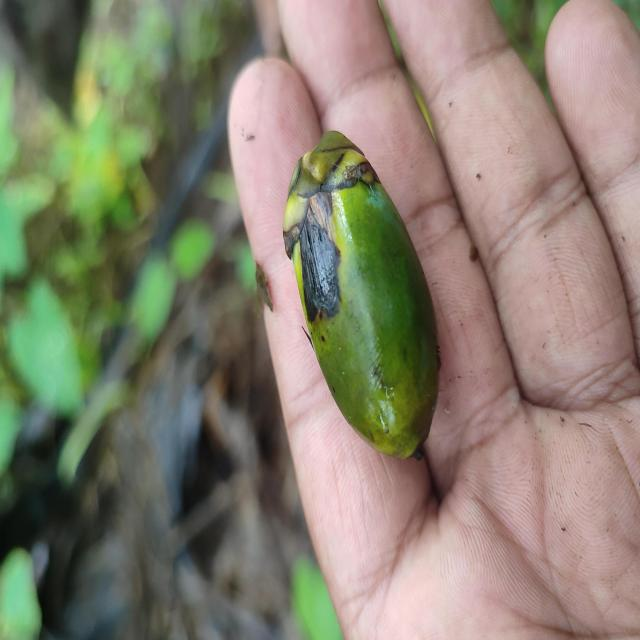damaged: (282, 131, 441, 461)
